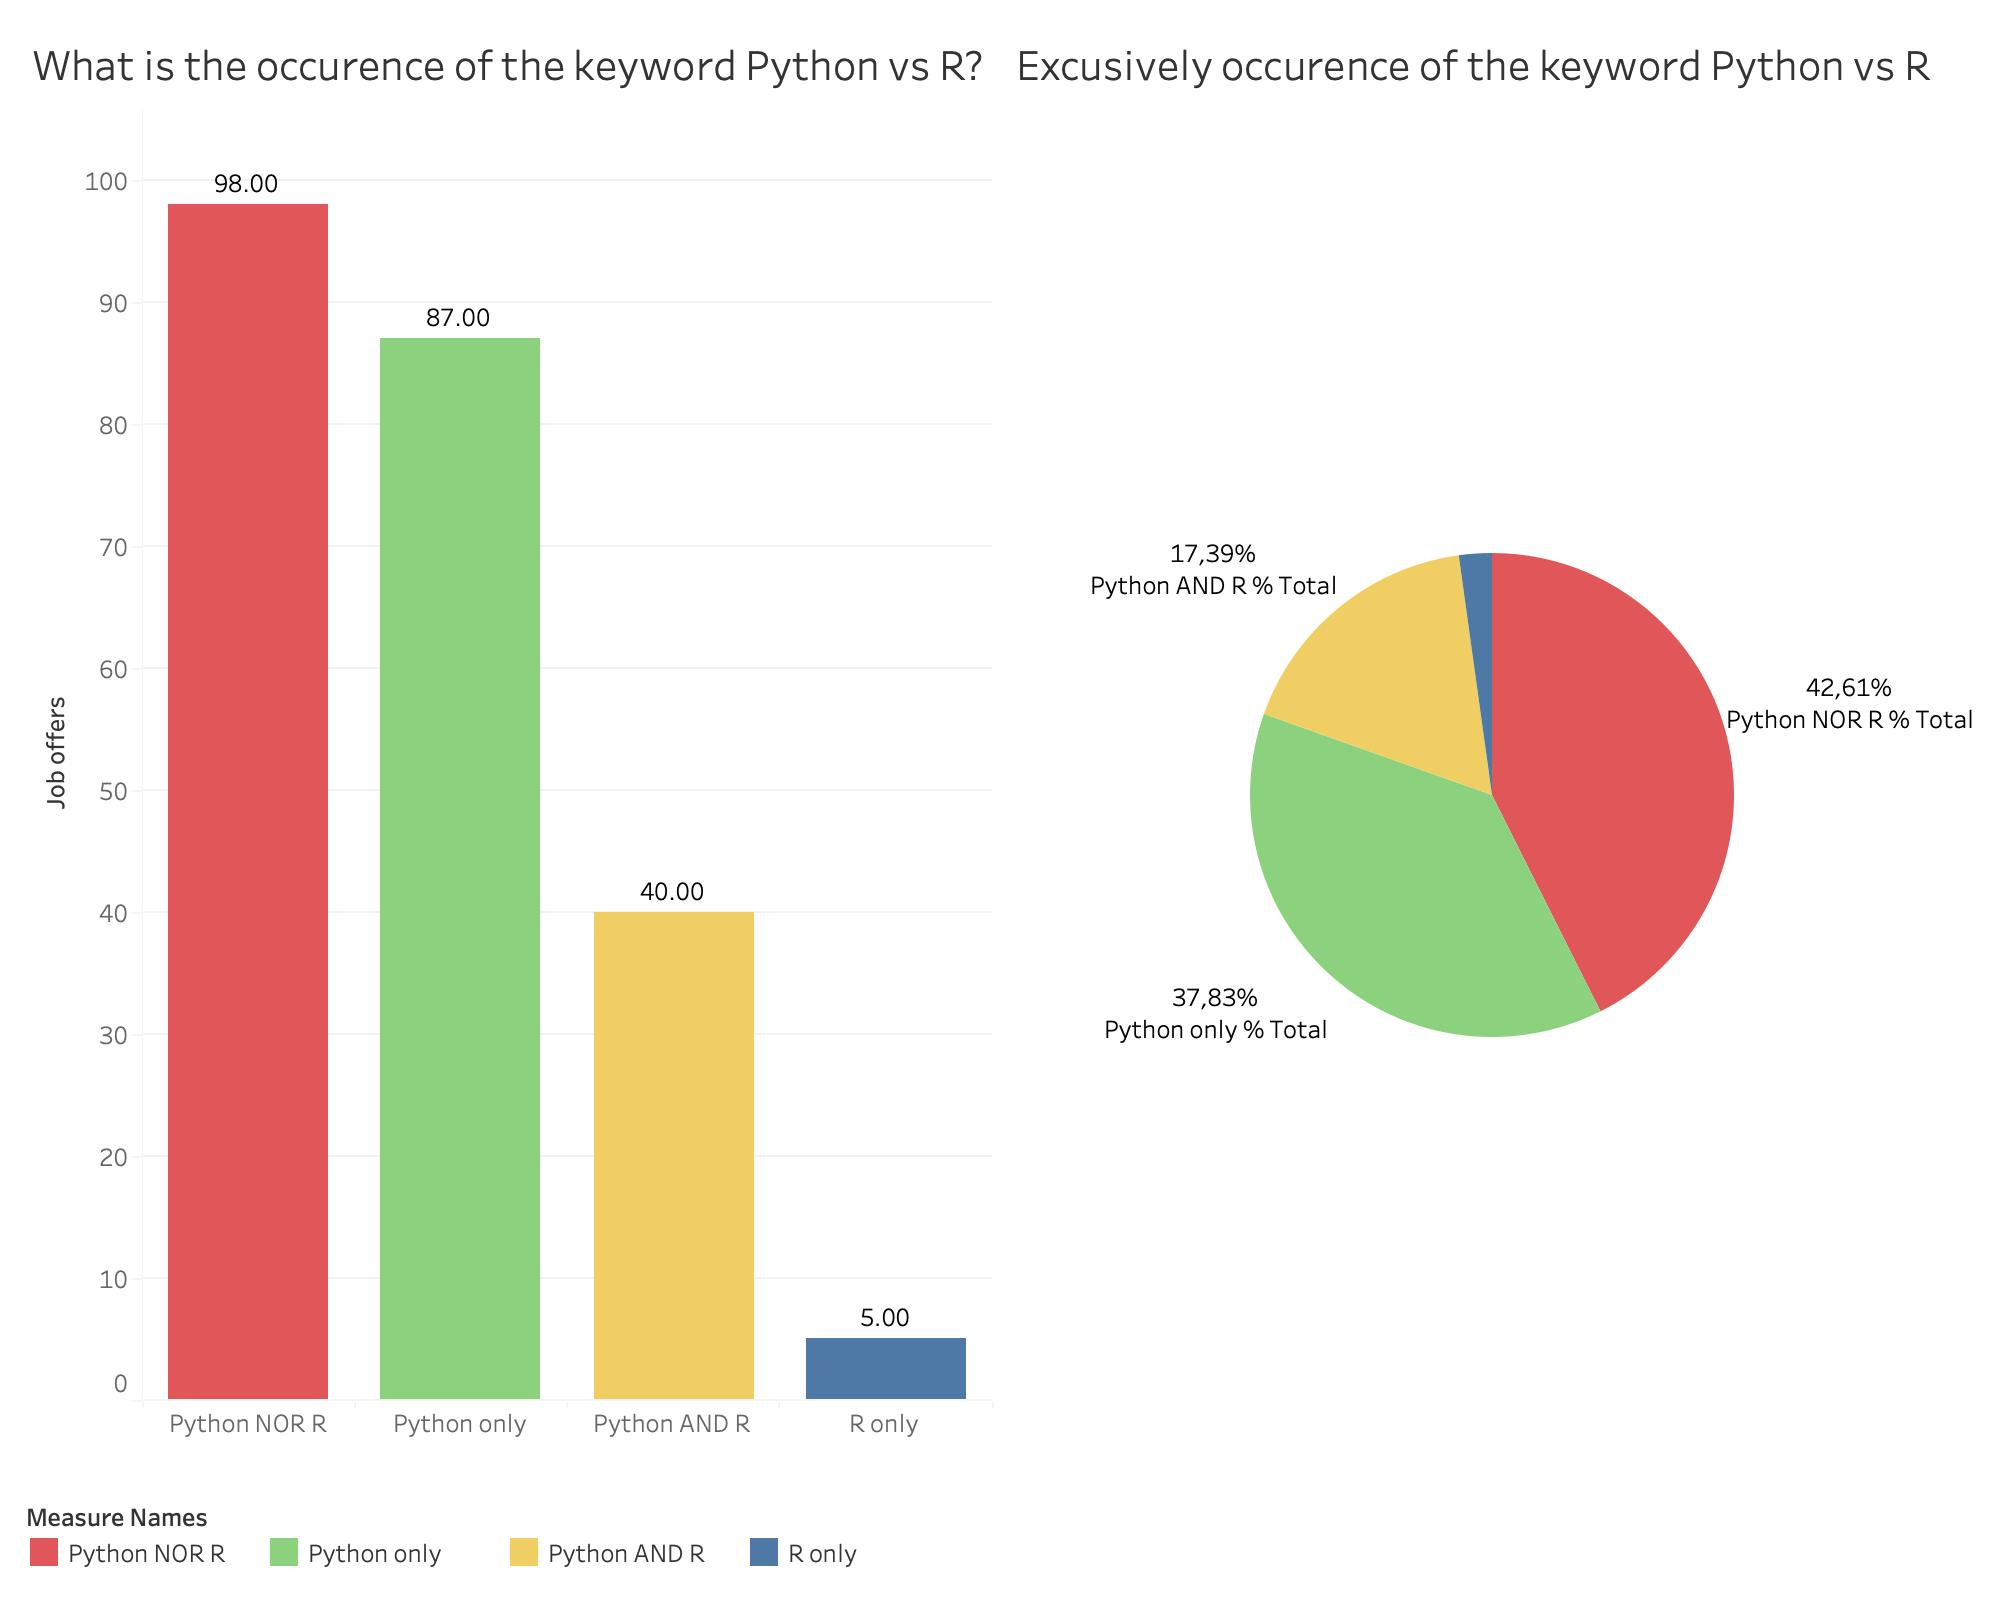

What the dashboard file says about the page in this screenshot:
{"tool":"tableau","page":{"name":"Prog Lang - Dashboard","canvas":[1000,800],"ordinal":1},"visuals":[{"type":"worksheet","title":"Prog Lang - Bar","mark":"Automatic","box":[8,8,492,736]},{"type":"worksheet","title":"Prog Lang - Pie","mark":"Pie","box":[500,8,492,736]},{"type":"legend","title":"Prog Lang - Bar","param":"[federated.085hs650uwi5ku1cphnot1cb6b0q].[:Measure Names]","box":[8,744,984,48]}]}

Visuals, with their boxes in screenshot pixels (x1, y1, x2, y2), scaled from the page's 1000x800 canvas onto the 2000x1600 screenshot:
"Prog Lang - Bar" worksheet: pyautogui.locateOnScreen(16, 16, 1000, 1488)
"Prog Lang - Pie" worksheet (Pie marks): pyautogui.locateOnScreen(1000, 16, 1984, 1488)
"Prog Lang - Bar" legend: pyautogui.locateOnScreen(16, 1488, 1984, 1584)
